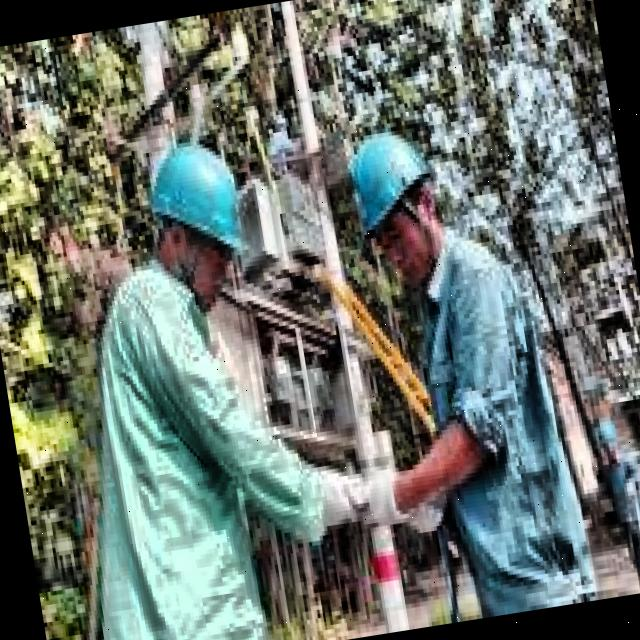helmet: (128, 118, 266, 312), (333, 112, 455, 292)
